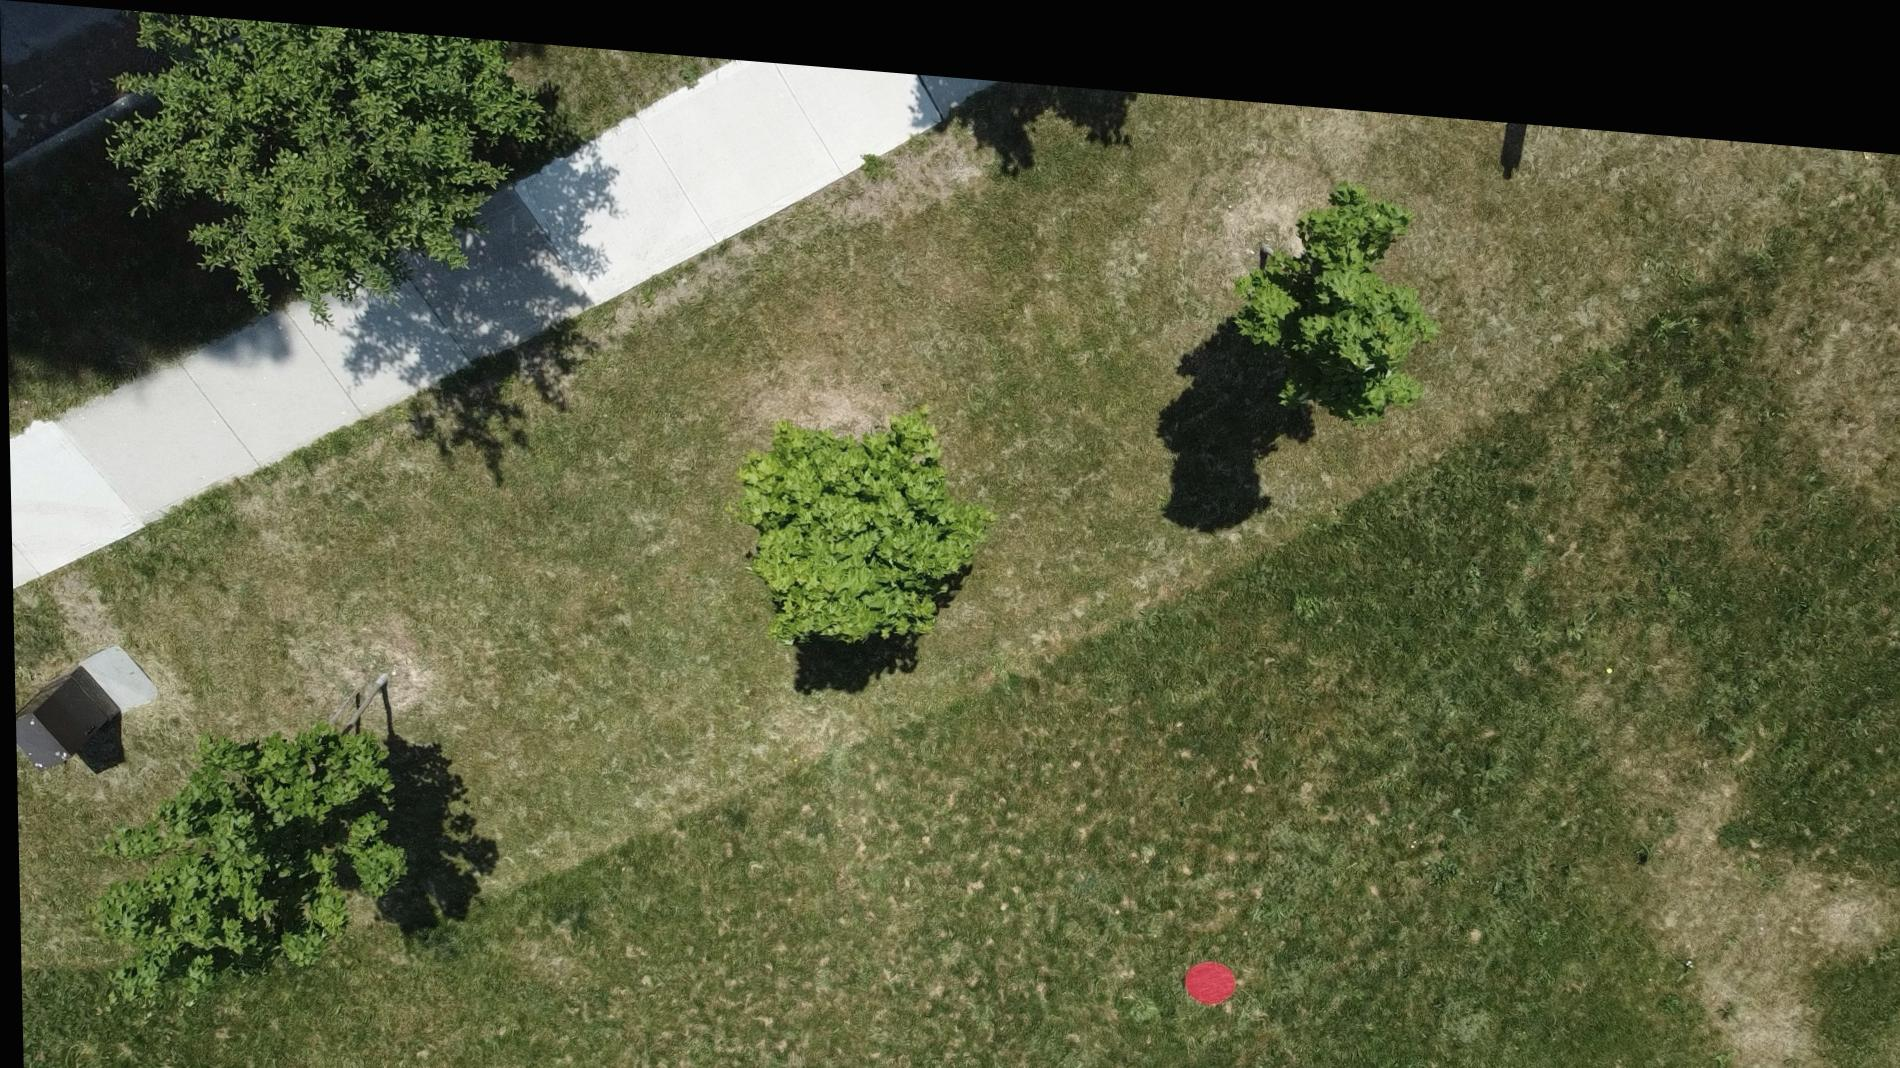Red: (1177, 939, 1234, 987)
